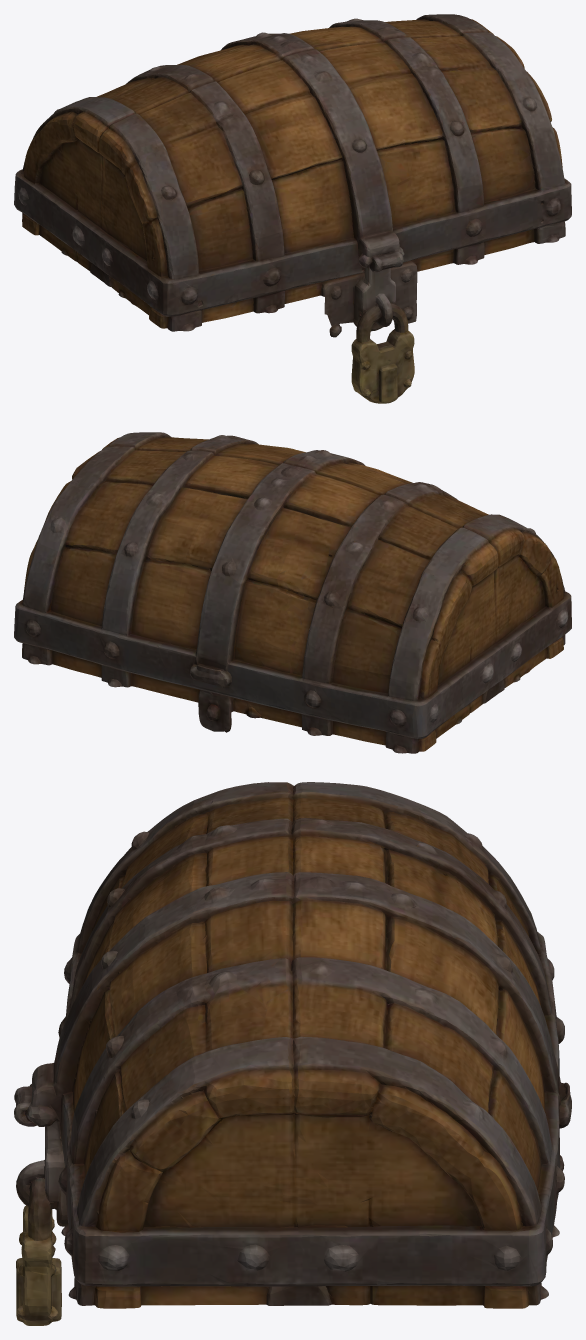
3 renders of one model, top to bottom at view 1: azimuth 30°, elevation 25°; view 2: azimuth 150°, elevation 25°; view 3: azimuth 270°, elevation 25°, orthographic. The views are drawn at different scales.
Parts seen in each view (by area): view 1: source_surface_0; view 2: source_surface_0; view 3: source_surface_0.
Boxes of the visible parts, x1,y1,x2,y2 form: source_surface_0: (14,14,571,403); source_surface_0: (14,432,571,753); source_surface_0: (14,782,571,1325).
Size of the model in its own units: 0.5907 by 0.3932 by 0.4495.
Materials: 1 (1 with a texture image).
